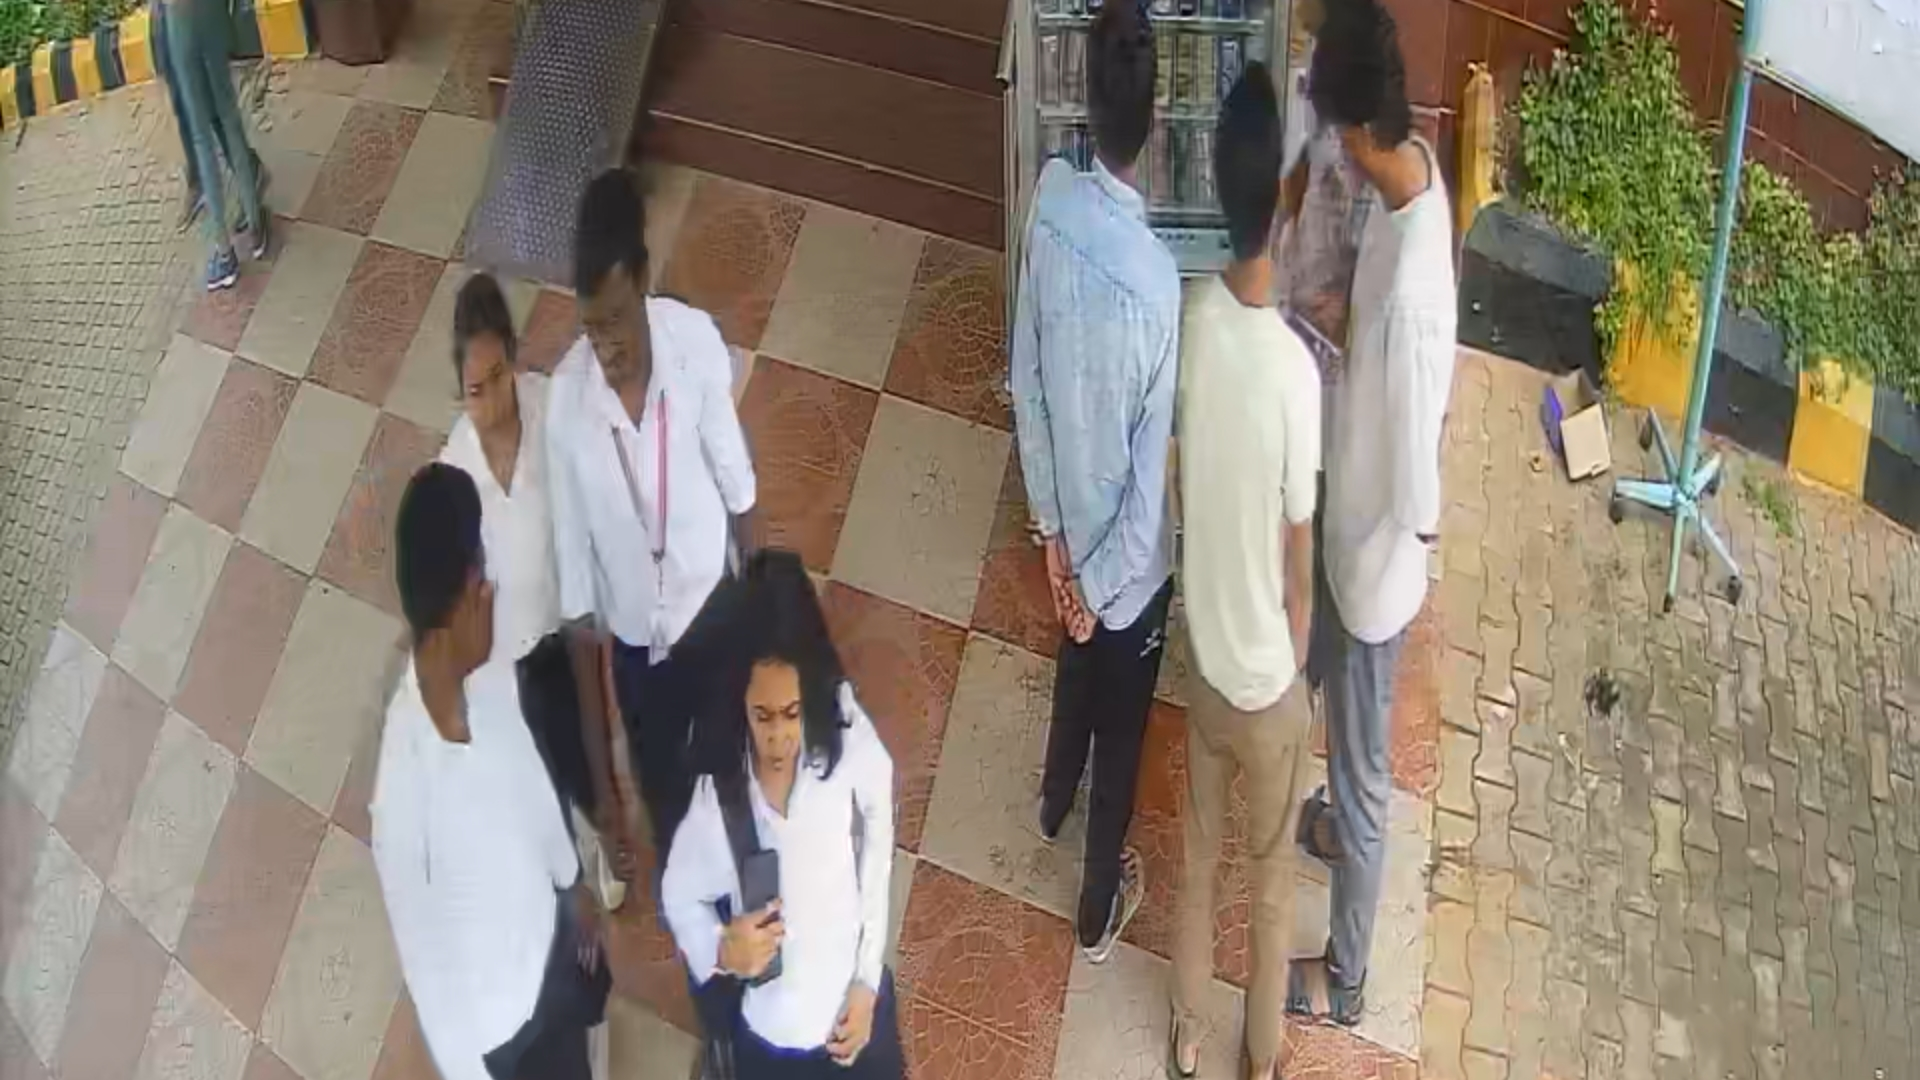intruder: (671, 553, 920, 1080)
not intruder: (539, 154, 764, 791)
